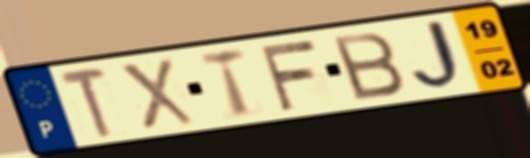B: (327, 29, 408, 103)
F: (255, 36, 320, 113)
J: (410, 16, 473, 94)
T: (55, 66, 116, 140), (197, 45, 255, 121)
X: (115, 56, 199, 132)
